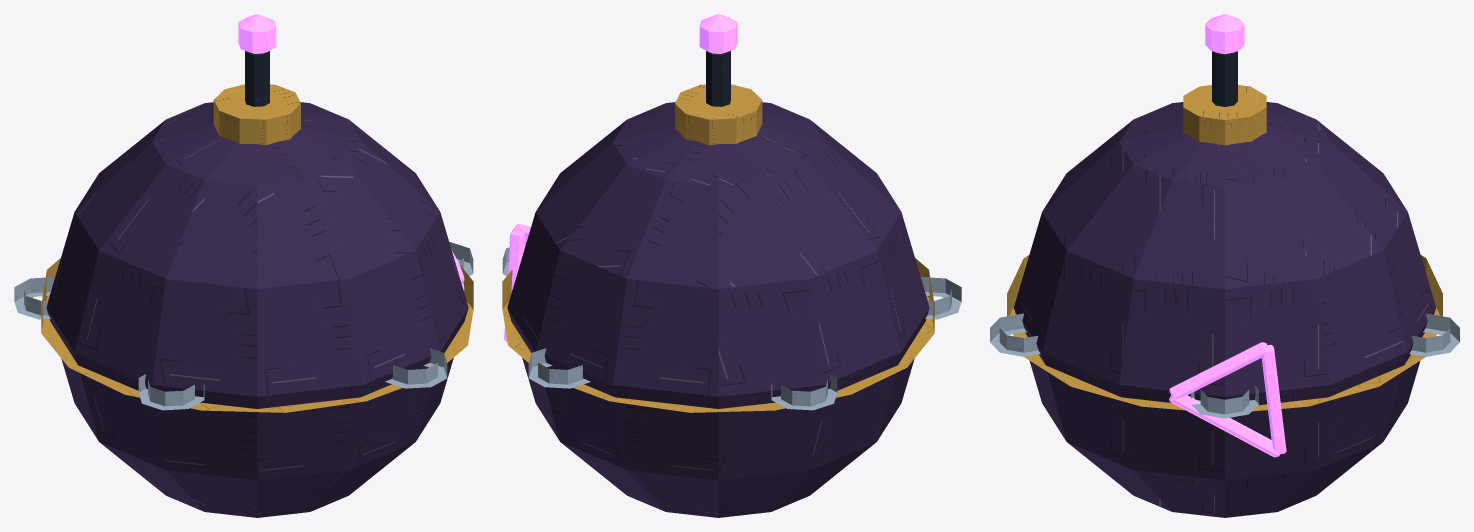
File: hex.glb
The picture shows the model from 3 angles, left to right: view 1: azimuth 30°, elevation 25°; view 2: azimuth 150°, elevation 25°; view 3: azimuth 270°, elevation 25°; orthographic projection.
Visible parts, largest first — view 1: body, fuse; view 2: body, fuse; view 3: body, fuse.
Boxes of the visible parts, <box> form: body: <box>14,84,473,517</box>; fuse: <box>238,14,276,106</box>; body: <box>502,84,961,517</box>; fuse: <box>699,14,737,106</box>; body: <box>990,85,1459,517</box>; fuse: <box>1205,14,1244,106</box>.
Bounding box in the file's own units: 0.2852 × 0.3294 × 0.2893.
5 materials, 5 textured.
